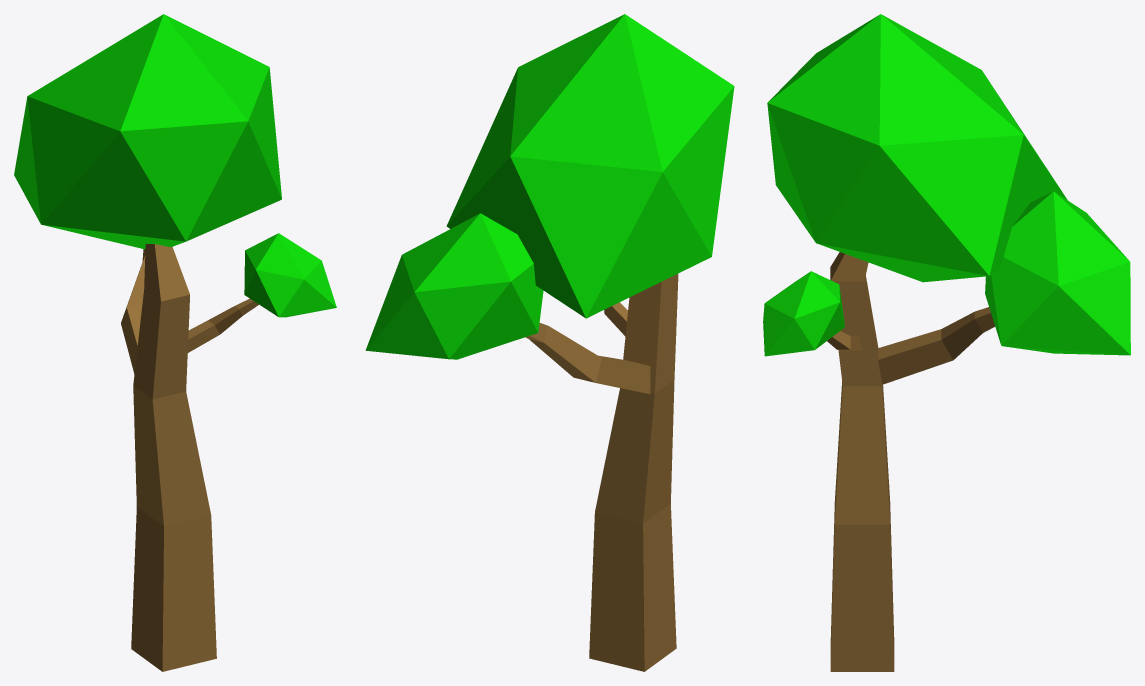
Rendered from tree1.fbx.
The picture shows the model from 3 angles, left to right: view 1: azimuth 30°, elevation 25°; view 2: azimuth 150°, elevation 25°; view 3: azimuth 270°, elevation 25°; orthographic projection. The views are drawn at different scales.
Visible parts, largest first — view 1: Cube; view 2: Cube; view 3: Cube.
Part boxes in pixels (bbox=[...]): Cube: bbox=[14, 14, 336, 671]; Cube: bbox=[365, 14, 734, 671]; Cube: bbox=[763, 14, 1130, 671].
Size of the model in its own units: 238 by 608 by 315.
